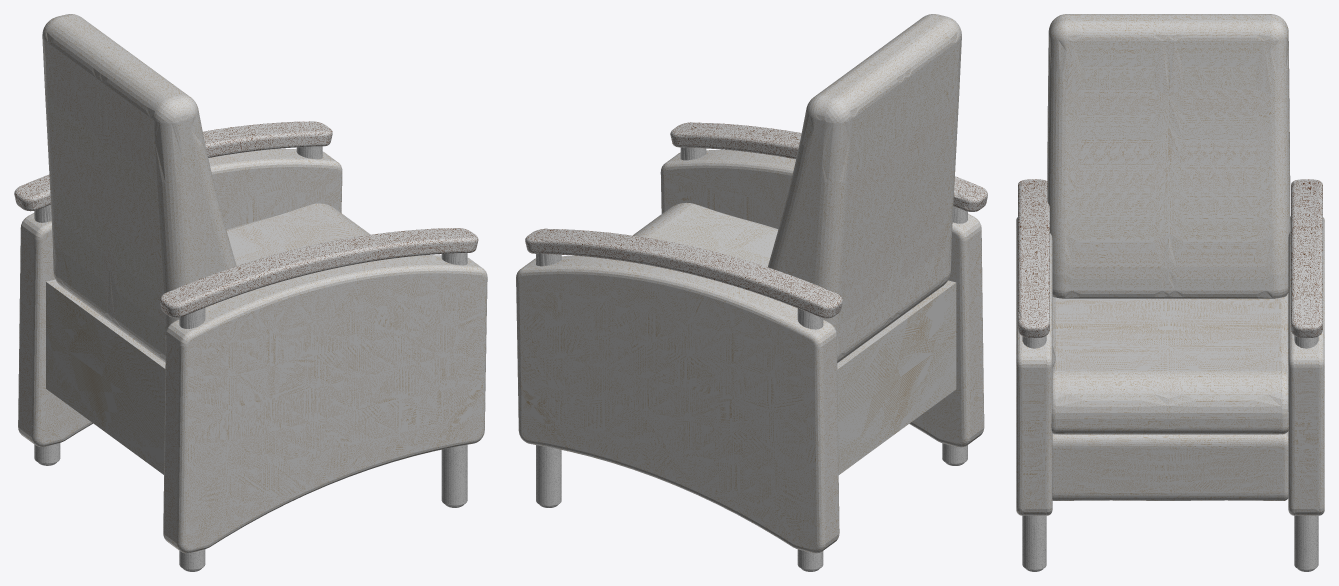
3 views of the same model, side by side, from view 1: azimuth 30°, elevation 25°; view 2: azimuth 150°, elevation 25°; view 3: azimuth 270°, elevation 25° (orthographic). The views are drawn at different scales.
Parts seen in each view (by area): view 1: mesh10.002_mesh10-geometry, mesh2.002_mesh2-geometry, mesh3.002_mesh3-geometry, mesh14.002_mesh14-geometry, mesh1_mesh1-geometry, mesh11.003_mesh11-geometry, mesh5.002_mesh5-geometry, mesh15.003_mesh15-geometry, mesh8.001_mesh8-geometry, mesh9.001_mesh9-geometry, mesh13.001_mesh13-geometry; view 2: mesh14.002_mesh14-geometry, mesh3.002_mesh3-geometry, mesh2.002_mesh2-geometry, mesh10.002_mesh10-geometry, mesh1_mesh1-geometry, mesh15.003_mesh15-geometry, mesh4.002_mesh4-geometry, mesh11.003_mesh11-geometry, mesh12.001_mesh12-geometry, mesh13.001_mesh13-geometry, mesh9.001_mesh9-geometry; view 3: mesh3.002_mesh3-geometry, mesh2.002_mesh2-geometry, mesh5.002_mesh5-geometry, mesh4.002_mesh4-geometry, mesh7.002_mesh7-geometry, mesh6.002_mesh6-geometry, mesh14.002_mesh14-geometry, mesh10.002_mesh10-geometry, mesh15.003_mesh15-geometry, mesh11.003_mesh11-geometry, mesh12.001_mesh12-geometry, mesh8.001_mesh8-geometry.
Part boxes in pixels (x1,y1,x2,y2): mesh10.002_mesh10-geometry: (163, 255, 487, 553); mesh2.002_mesh2-geometry: (99, 55, 236, 362); mesh3.002_mesh3-geometry: (42, 14, 134, 325); mesh14.002_mesh14-geometry: (18, 148, 342, 446); mesh1_mesh1-geometry: (46, 279, 165, 474); mesh11.003_mesh11-geometry: (160, 228, 478, 317); mesh5.002_mesh5-geometry: (226, 203, 370, 265); mesh15.003_mesh15-geometry: (14, 121, 332, 211); mesh8.001_mesh8-geometry: (441, 253, 467, 507); mesh9.001_mesh9-geometry: (179, 308, 205, 571); mesh13.001_mesh13-geometry: (34, 204, 60, 465); mesh14.002_mesh14-geometry: (516, 255, 839, 553); mesh3.002_mesh3-geometry: (768, 55, 905, 362); mesh2.002_mesh2-geometry: (869, 14, 961, 325); mesh10.002_mesh10-geometry: (660, 149, 984, 447); mesh1_mesh1-geometry: (837, 280, 956, 474); mesh15.003_mesh15-geometry: (525, 228, 842, 318); mesh4.002_mesh4-geometry: (633, 202, 778, 267); mesh11.003_mesh11-geometry: (670, 122, 987, 211); mesh12.001_mesh12-geometry: (536, 253, 561, 507); mesh13.001_mesh13-geometry: (797, 308, 823, 571); mesh9.001_mesh9-geometry: (942, 206, 967, 465); mesh3.002_mesh3-geometry: (1168, 14, 1290, 298); mesh2.002_mesh2-geometry: (1047, 14, 1168, 298); mesh5.002_mesh5-geometry: (1168, 293, 1288, 434); mesh4.002_mesh4-geometry: (1051, 297, 1168, 434); mesh7.002_mesh7-geometry: (1168, 431, 1288, 500); mesh6.002_mesh6-geometry: (1052, 434, 1168, 500); mesh14.002_mesh14-geometry: (1288, 216, 1324, 515); mesh10.002_mesh10-geometry: (1016, 217, 1052, 515); mesh15.003_mesh15-geometry: (1291, 179, 1322, 337); mesh11.003_mesh11-geometry: (1018, 179, 1049, 337); mesh12.001_mesh12-geometry: (1294, 335, 1318, 571); mesh8.001_mesh8-geometry: (1022, 335, 1046, 571).
Bounding box in the file's own units: 0.5176 × 0.7179 × 0.4655.
